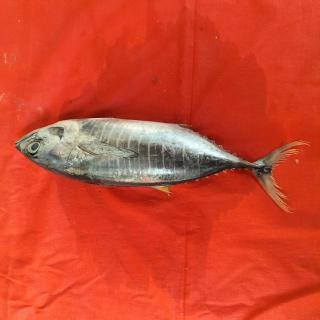Ikan: (8, 105, 316, 229)
